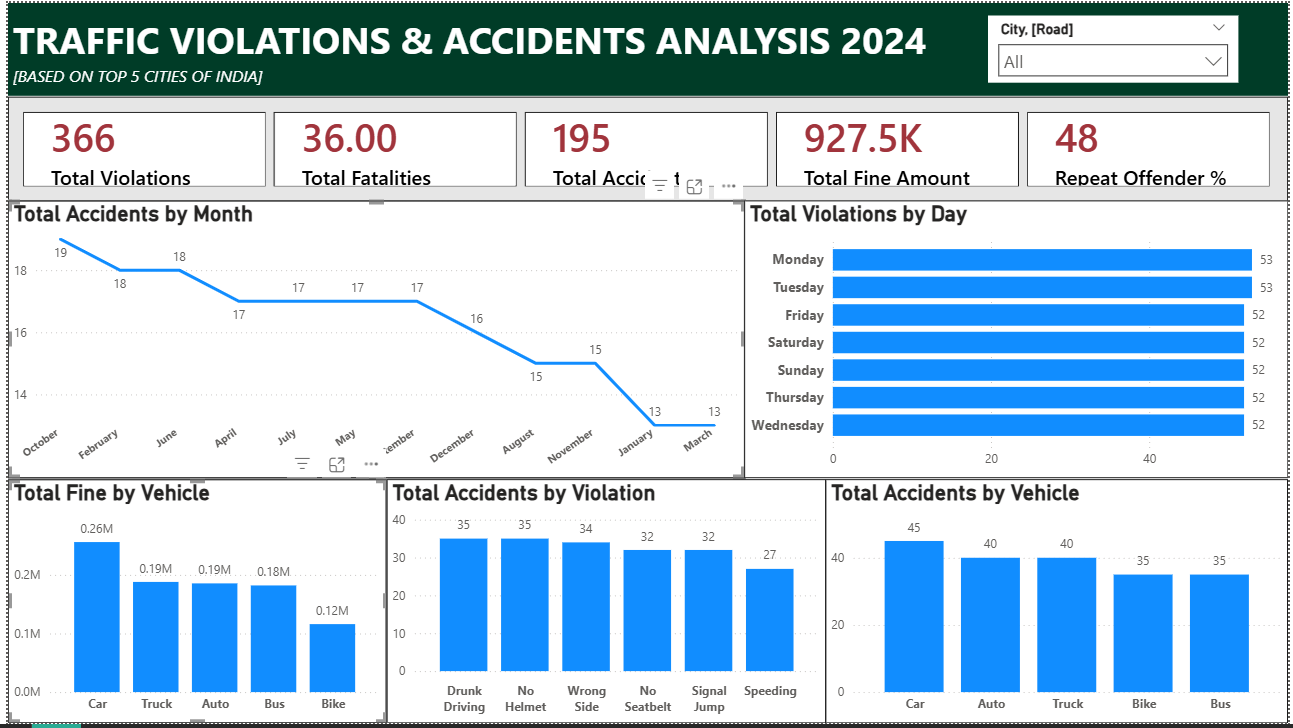

The page's visual inventory and layout, read from the dashboard file:
{"tool":"powerbi","page":{"name":"Page 1","canvas":[1280,720],"ordinal":0},"visuals":[{"type":"cardVisual","fields":{"Data":["key measure.Total Violations","key measure.Total Fatalities","key measure.Total Accidents","key measure.Total Fine Amount","key measure.Repeat Offender %"]},"box":[0,93.3,1280,105],"z":0},{"type":"textbox","box":[0,0,1280.3,92.9],"z":1000},{"type":"lineChart","fields":{"Y":["key measure.Total Accidents"],"Category":["Dim_date.Month Name"]},"box":[0,197.8,736.4,277.4],"z":2000},{"type":"barChart","fields":{"Category":["Dim_date.Day Name"],"Y":["key measure.Total Violations"]},"box":[736.4,197.8,543.6,277.4],"z":3000},{"type":"columnChart","fields":{"Category":["Fact_table.Vehicle_type"],"Y":["key measure.Total Fine Amount"]},"box":[0,476.2,378.7,244.3],"z":4000},{"type":"slicer","fields":{"Values":["Dim_location.City","Dim_location.Road_name"]},"box":[980.2,12.4,250,67.2],"z":5000},{"type":"clusteredColumnChart","fields":{"Y":["key measure.Total Accidents"],"Category":["Fact_table.Vehicle_type"]},"box":[817.8,476.2,462.4,244.3],"z":6000},{"type":"clusteredColumnChart","fields":{"Y":["key measure.Total Accidents"],"Category":["Fact_table.Violation_type"]},"box":[378.7,476.2,439.1,244.3],"z":7000}]}

Visuals, with their boxes in screenshot pixels (x1, y1, x2, y2), scaled from the page's 1280x720 canvas onto the 1293x728 screenshot:
cardVisual - key measure.Total Violations x key measure.Total Fatalities: left=0, top=94, right=1292, bottom=201
textbox: left=0, top=0, right=1292, bottom=94
lineChart - key measure.Total Accidents x Dim_date.Month Name: left=0, top=200, right=744, bottom=480
barChart - Dim_date.Day Name x key measure.Total Violations: left=744, top=200, right=1292, bottom=480
columnChart - Fact_table.Vehicle_type x key measure.Total Fine Amount: left=0, top=481, right=383, bottom=727
slicer - Dim_location.City x Dim_location.Road_name: left=990, top=13, right=1243, bottom=80
clusteredColumnChart - key measure.Total Accidents x Fact_table.Vehicle_type: left=826, top=481, right=1292, bottom=727
clusteredColumnChart - key measure.Total Accidents x Fact_table.Violation_type: left=383, top=481, right=826, bottom=727
